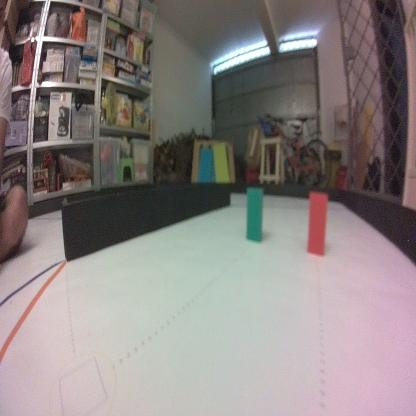green: (245, 185, 264, 243)
red: (306, 188, 328, 260)
